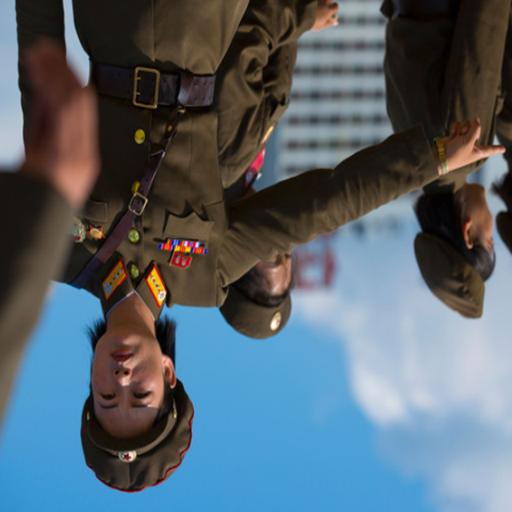north army: (5, 18, 493, 491)
